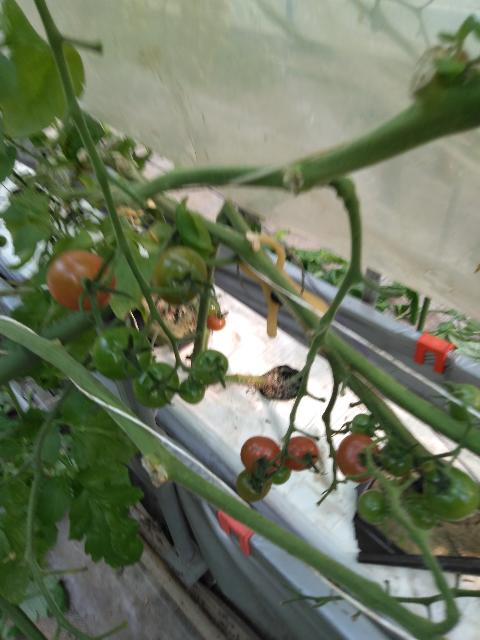l_fully_ripened: (240, 436, 282, 475), (282, 436, 320, 471)
l_green: (150, 246, 208, 304), (423, 465, 479, 522), (93, 327, 152, 381), (133, 362, 179, 409), (446, 383, 480, 422), (236, 469, 274, 502), (193, 350, 228, 385), (358, 489, 390, 524), (382, 445, 413, 477), (179, 378, 205, 405), (352, 413, 375, 437), (272, 461, 292, 484)
l_half_ripened: (45, 250, 115, 312), (336, 433, 382, 483), (207, 313, 226, 331)
